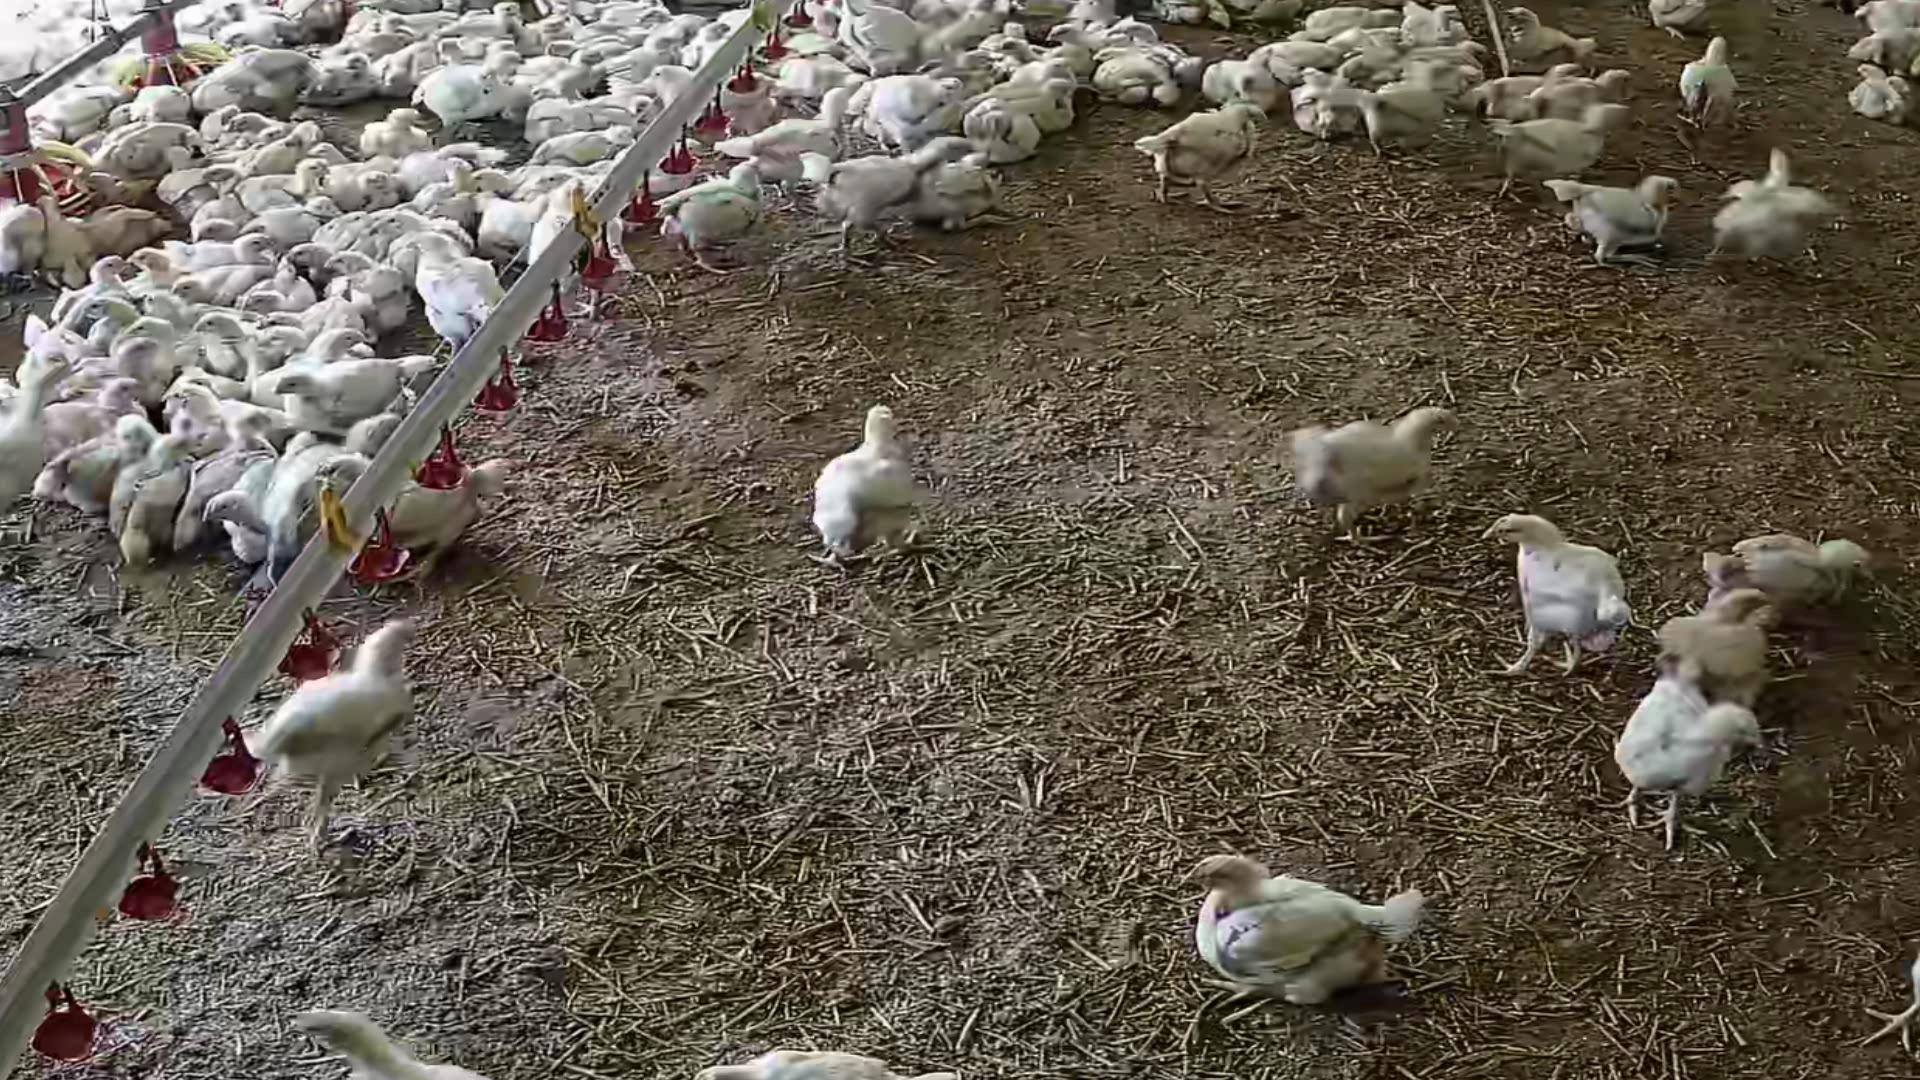poussin: (240, 617, 524, 833), (1154, 828, 1433, 1044), (752, 390, 1010, 578), (1294, 356, 1464, 549), (1453, 498, 1634, 675), (324, 444, 522, 604), (199, 415, 406, 566), (1643, 583, 1837, 732), (791, 125, 990, 266), (1676, 492, 1882, 625), (1607, 670, 1775, 820), (1688, 140, 1836, 280), (1125, 96, 1286, 219), (287, 960, 440, 1080), (0, 336, 74, 574), (1552, 164, 1709, 265), (277, 355, 468, 438), (675, 1021, 938, 1080), (719, 79, 864, 186), (644, 166, 770, 278), (1499, 100, 1648, 194), (406, 229, 514, 352), (1662, 34, 1756, 150), (38, 417, 156, 508), (128, 426, 210, 555), (183, 46, 314, 125), (1338, 87, 1464, 167), (417, 50, 521, 146), (922, 153, 1027, 239), (190, 429, 272, 538), (324, 247, 419, 338), (851, 69, 965, 144), (290, 203, 400, 281), (78, 120, 202, 189), (1499, 3, 1604, 83), (1494, 51, 1606, 124), (169, 385, 287, 452), (32, 187, 104, 295), (194, 310, 302, 380), (44, 372, 156, 439), (820, 0, 927, 70), (960, 94, 1055, 167), (1255, 26, 1393, 76), (380, 208, 483, 274), (167, 255, 287, 310), (1081, 44, 1191, 102), (0, 187, 50, 309), (166, 228, 289, 277), (260, 294, 375, 345), (530, 120, 638, 174), (777, 54, 877, 112), (1840, 5, 1920, 76), (527, 54, 625, 112), (1545, 70, 1652, 123), (1042, 15, 1159, 61), (247, 154, 328, 216), (1844, 59, 1912, 133), (1309, 0, 1419, 46), (237, 268, 326, 323), (1205, 58, 1288, 116), (302, 50, 385, 108), (1290, 71, 1361, 138), (323, 153, 406, 210), (439, 0, 530, 50), (79, 199, 164, 252), (54, 262, 142, 313), (419, 157, 485, 223), (131, 320, 204, 378), (651, 63, 719, 127), (1004, 82, 1085, 133), (34, 316, 117, 367), (356, 112, 439, 162), (549, 24, 636, 70), (1395, 42, 1490, 79), (203, 12, 286, 53), (331, 20, 414, 58), (132, 80, 202, 125), (679, 16, 732, 73), (1643, 0, 1709, 45), (1400, 0, 1469, 41), (87, 298, 154, 339), (255, 124, 313, 169), (949, 46, 1002, 87), (1021, 58, 1077, 95), (131, 247, 179, 289), (310, 332, 381, 360), (469, 166, 529, 198), (993, 34, 1051, 62), (229, 113, 286, 141), (535, 167, 585, 196), (361, 11, 414, 29), (638, 11, 684, 32)
